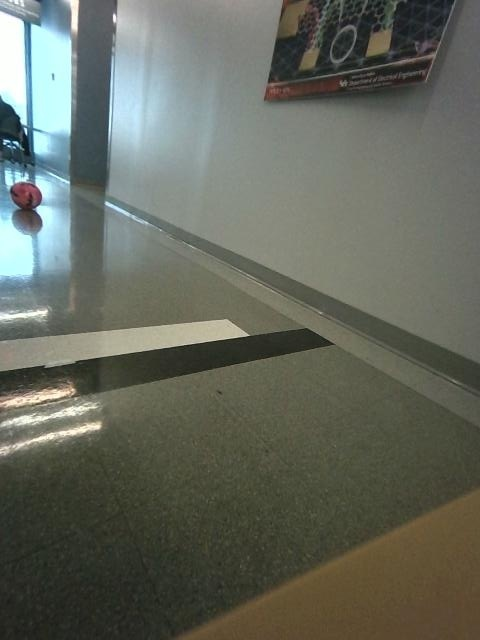ball: (10, 182, 41, 209)
